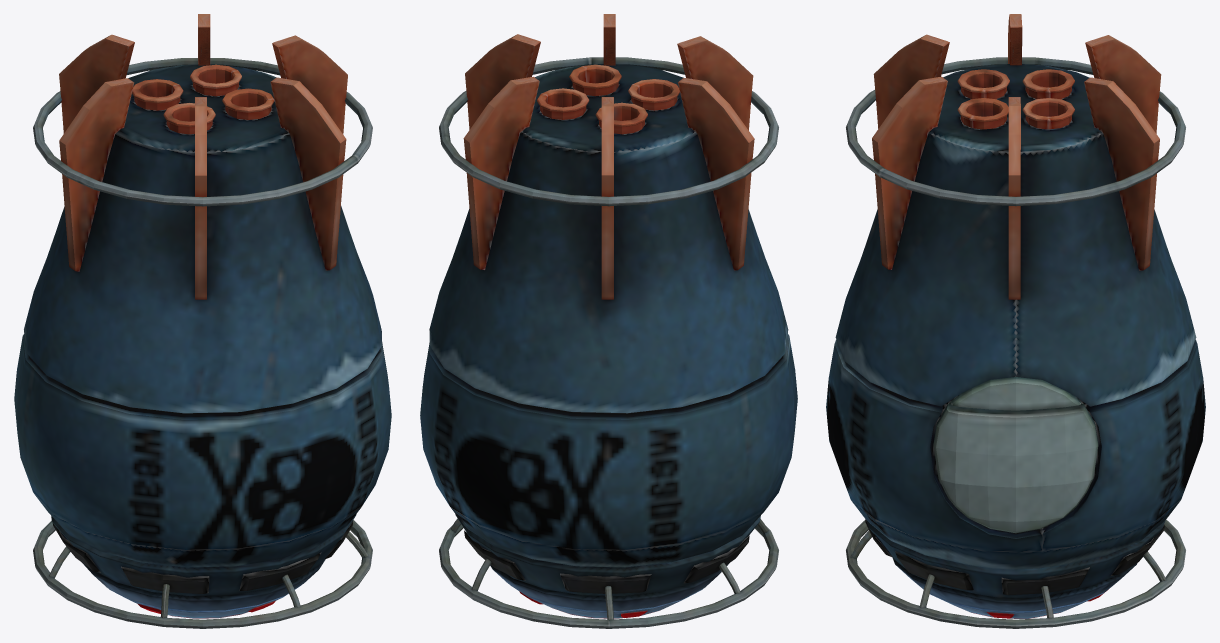
Rendered from daodan.FBX.
3 views of the same model, side by side, from view 1: azimuth 30°, elevation 25°; view 2: azimuth 150°, elevation 25°; view 3: azimuth 270°, elevation 25° (orthographic).
Visible parts, largest first — view 1: daodan_polySurface10_daodan_polySurface11_daodan_polySurface; view 2: daodan_polySurface10_daodan_polySurface11_daodan_polySurface; view 3: daodan_polySurface10_daodan_polySurface11_daodan_polySurface.
Boxes of the visible parts, x1,y1,x2,y2 form: daodan_polySurface10_daodan_polySurface11_daodan_polySurface: (14,14,391,628); daodan_polySurface10_daodan_polySurface11_daodan_polySurface: (420,14,797,628); daodan_polySurface10_daodan_polySurface11_daodan_polySurface: (826,14,1205,628).
Size of the model in its own units: 13.18 by 21.16 by 13.24.
